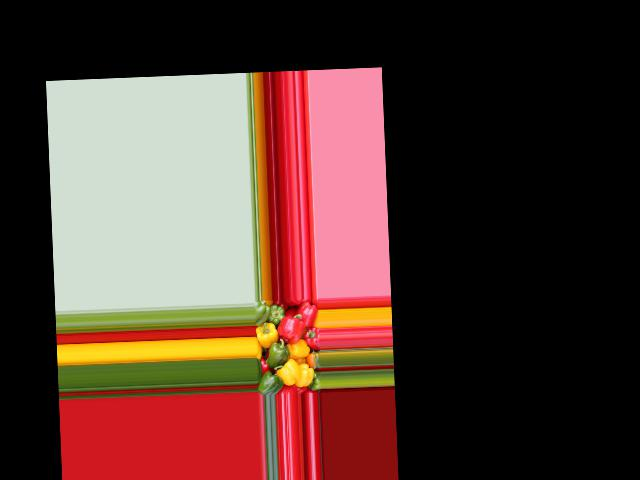bell_pepper: (309, 368, 321, 390)
